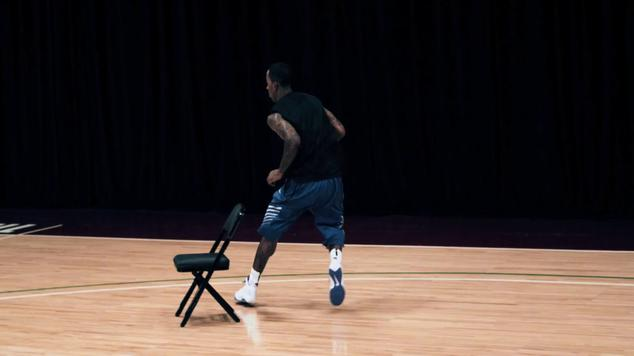stay: (254, 82, 352, 264)
